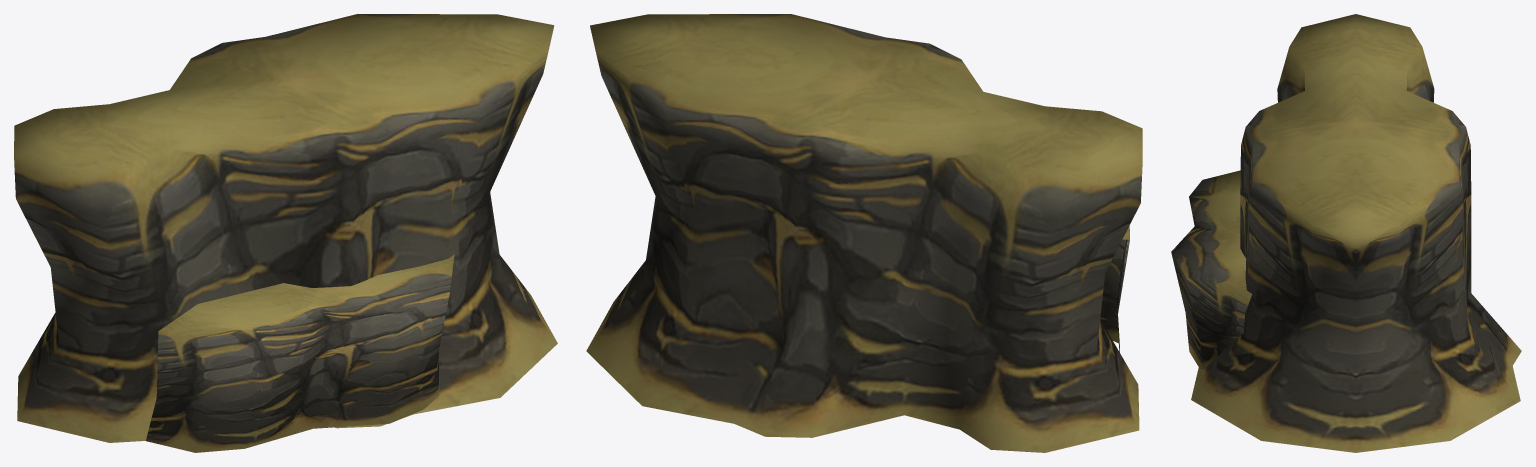
Rendered from Battle05_Stone_02.FBX.
3 renders of one model, left to right at view 1: azimuth 30°, elevation 25°; view 2: azimuth 150°, elevation 25°; view 3: azimuth 270°, elevation 25°, orthographic. The views are drawn at different scales.
Parts seen in each view (by area): view 1: Battle05_Stone_02; view 2: Battle05_Stone_02; view 3: Battle05_Stone_02.
Boxes of the visible parts, bbox=[...] form: Battle05_Stone_02: bbox=[14, 14, 557, 452]; Battle05_Stone_02: bbox=[586, 14, 1142, 452]; Battle05_Stone_02: bbox=[1171, 14, 1521, 452].
Bounding box in the file's own units: 21.52 × 10.37 × 14.25.
